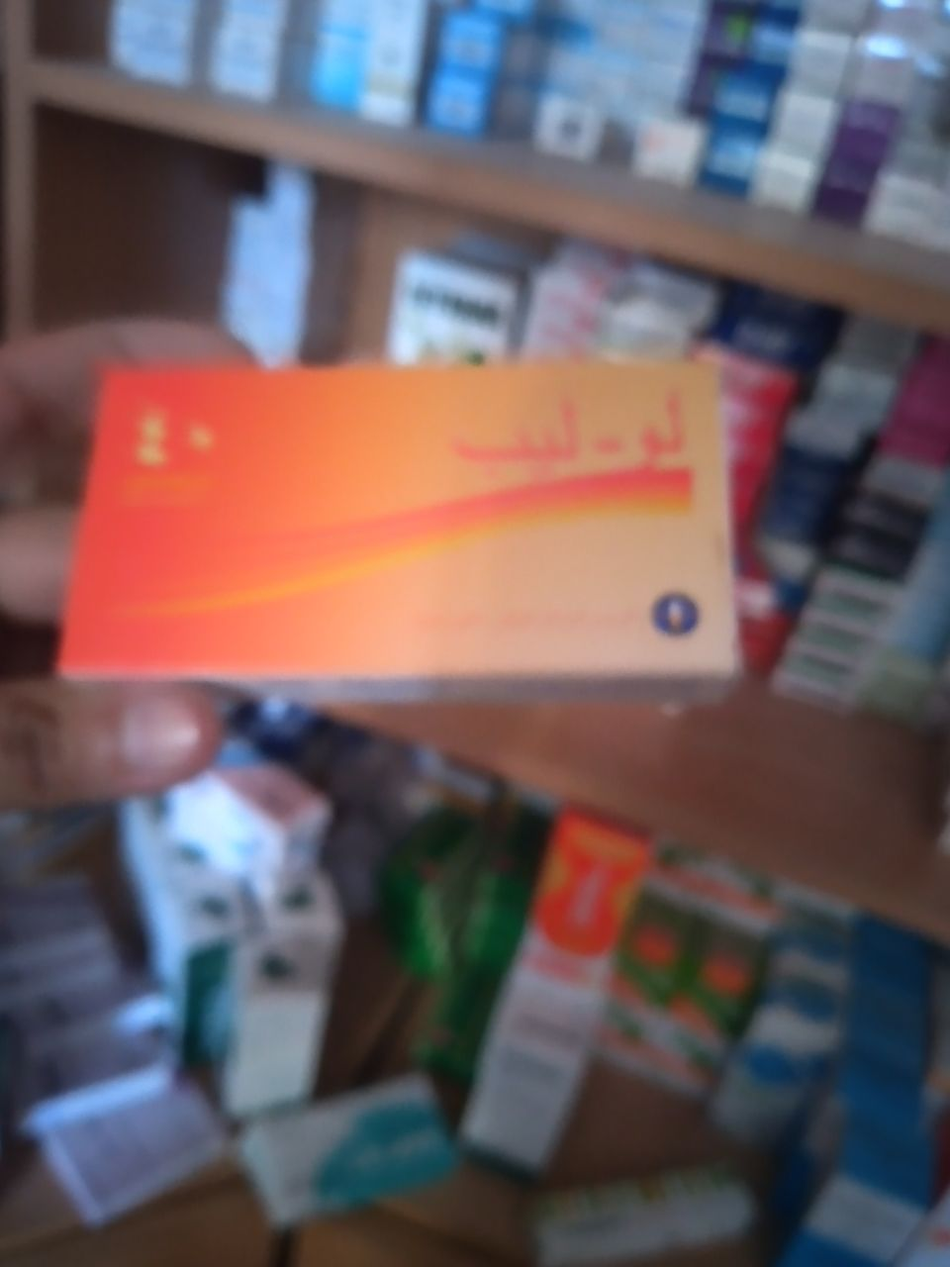Medicine: (63, 353, 769, 693)
